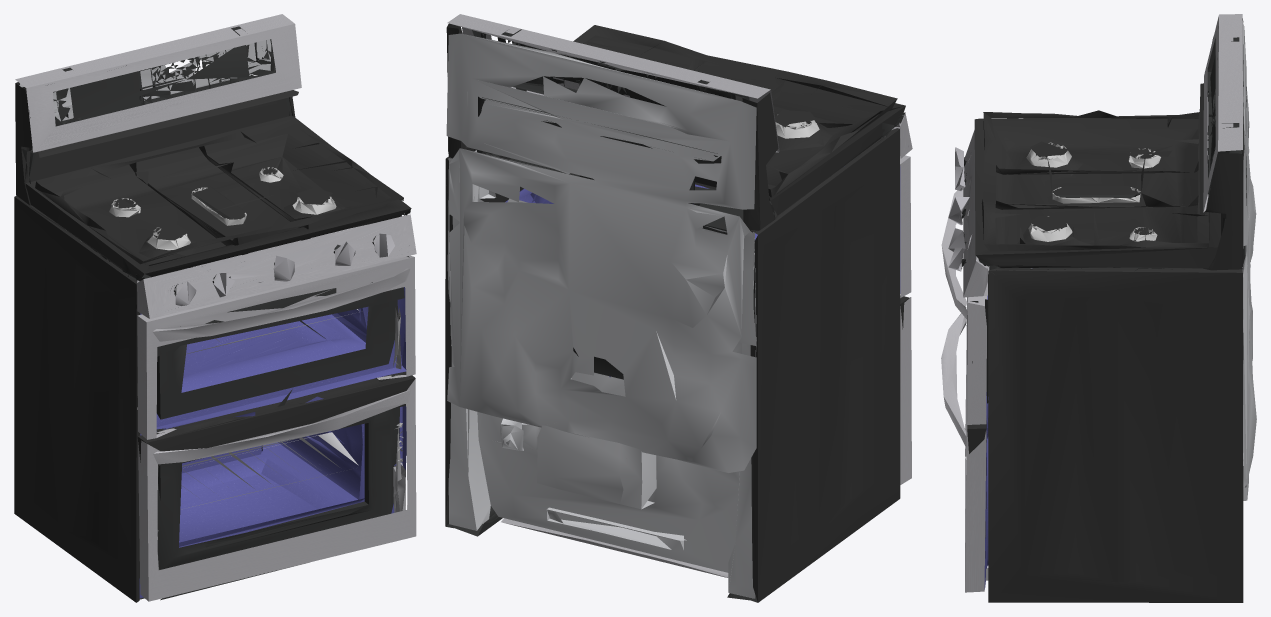
File: simready-range-cooker-lg.c12d9ef8.glb
3 views of the same model, side by side, from view 1: azimuth 30°, elevation 25°; view 2: azimuth 150°, elevation 25°; view 3: azimuth 270°, elevation 25° (orthographic). The views are drawn at different scales.
Visible parts, largest first — view 1: model; view 2: model; view 3: model.
Part boxes in pixels (<box>): model: <box>14,14,416,602</box>; model: <box>445,14,912,602</box>; model: <box>941,14,1256,602</box>.
Size of the model in its own units: 0.7627 by 1.18 by 0.7382.
Materials: 22 (9 with a texture image).
